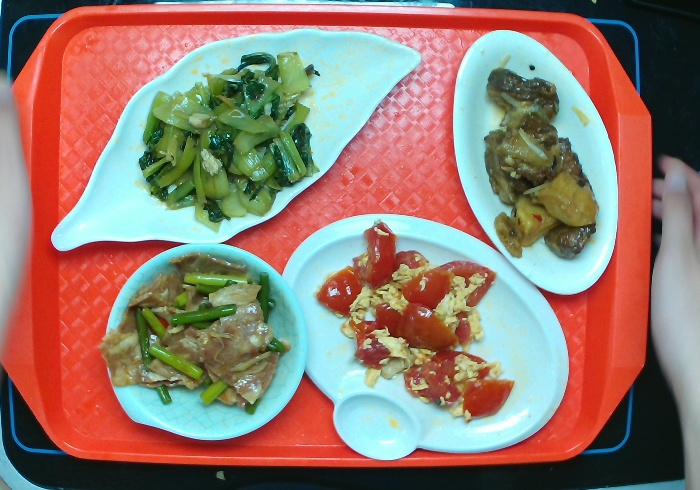RJxy-Bai_Se_Tuo_Yuan: (443, 25, 623, 298)
RJxy-Shu_Ye_Pan: (47, 29, 429, 258)
RJxy-Xiao_Jiao_Yuan_Wan: (99, 241, 311, 444)
RJxy-Zhan_Liao_Pan: (277, 214, 574, 461)
